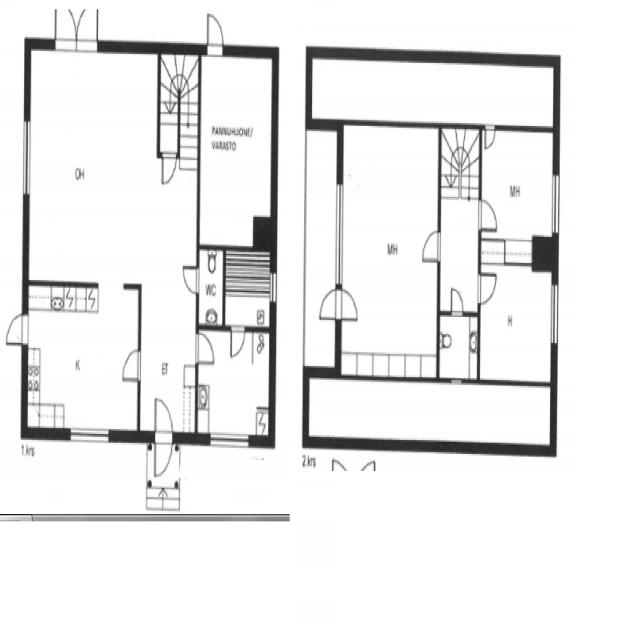door: (188, 247, 225, 325), (149, 389, 176, 489), (53, 1, 101, 54), (315, 283, 363, 327), (2, 308, 32, 352), (118, 341, 144, 387), (191, 327, 218, 369), (203, 8, 227, 55), (419, 221, 443, 268), (476, 192, 502, 235), (476, 265, 500, 307), (158, 146, 179, 190), (179, 259, 202, 298), (228, 320, 248, 362), (448, 282, 466, 320), (481, 120, 498, 154)
window: (486, 230, 537, 268), (331, 170, 347, 288), (63, 419, 116, 452), (204, 426, 251, 453), (20, 113, 34, 201), (548, 165, 564, 242), (547, 275, 561, 353), (268, 266, 280, 309), (446, 372, 468, 388)
zone: (25, 41, 158, 288), (336, 117, 439, 383), (24, 282, 141, 433), (193, 48, 274, 246), (481, 123, 557, 250), (480, 262, 553, 384), (196, 324, 272, 438), (224, 247, 275, 328), (437, 310, 480, 383), (197, 243, 224, 326)
